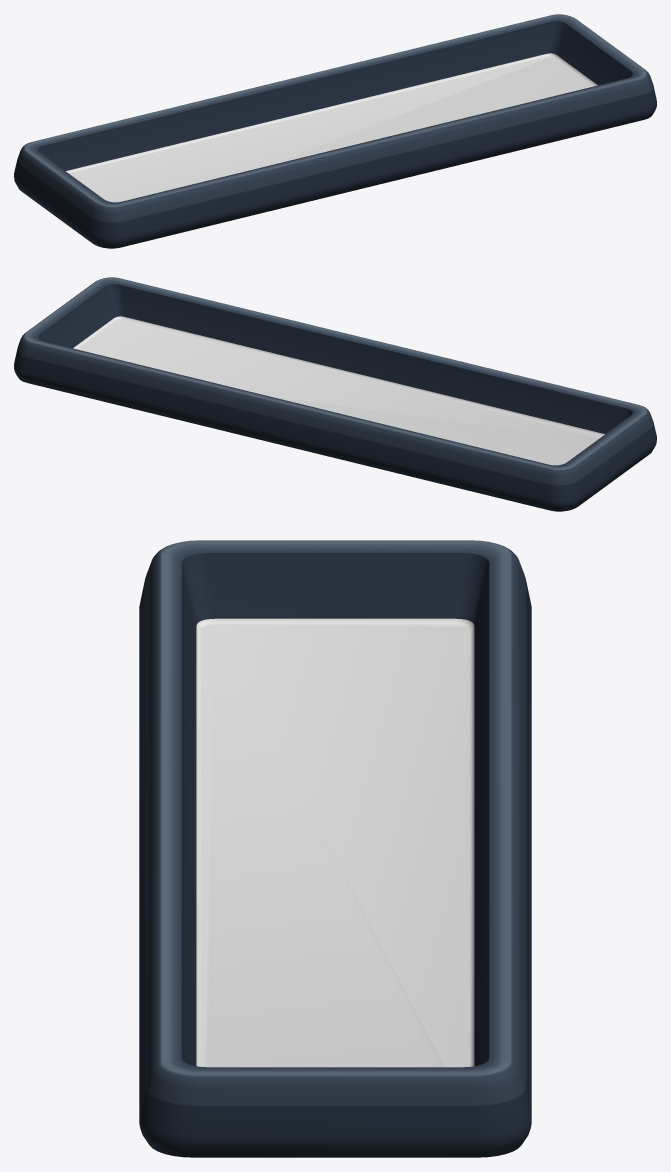
The model's file is SlotBost.fbx.
3 renders of one model, top to bottom at view 1: azimuth 30°, elevation 25°; view 2: azimuth 150°, elevation 25°; view 3: azimuth 270°, elevation 25°, orthographic. The views are drawn at different scales.
Parts seen in each view (by area): view 1: Slot.001; view 2: Slot.001; view 3: Slot.001.
Boxes of the visible parts, x1,y1,x2,y2 form: Slot.001: [14, 14, 656, 248]; Slot.001: [14, 277, 656, 511]; Slot.001: [139, 540, 531, 1157].
Bounding box in the file's own units: 420 × 27.92 × 127.
Materials: 2 (1 with a texture image).
